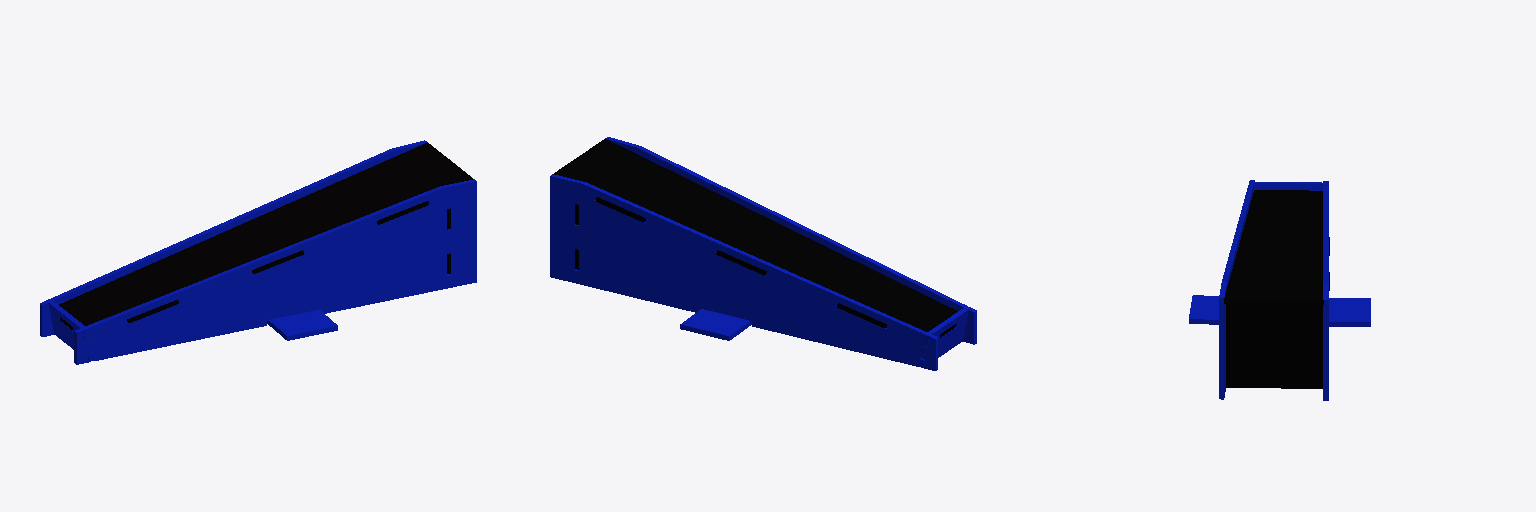
The model's file is slide_short.obj.
3 renders of one model, left to right at view 1: azimuth 30°, elevation 25°; view 2: azimuth 150°, elevation 25°; view 3: azimuth 270°, elevation 25°, orthographic.
Visible parts, largest first — view 1: assembly_slide_short; view 2: assembly_slide_short; view 3: assembly_slide_short.
Part boxes in pixels (left/top/right/bottom): assembly_slide_short: left=40, top=140, right=476, bottom=364; assembly_slide_short: left=550, top=137, right=976, bottom=370; assembly_slide_short: left=1189, top=180, right=1370, bottom=400.
Bounding box in the file's own units: 0.3173 × 0.0789 × 0.129.